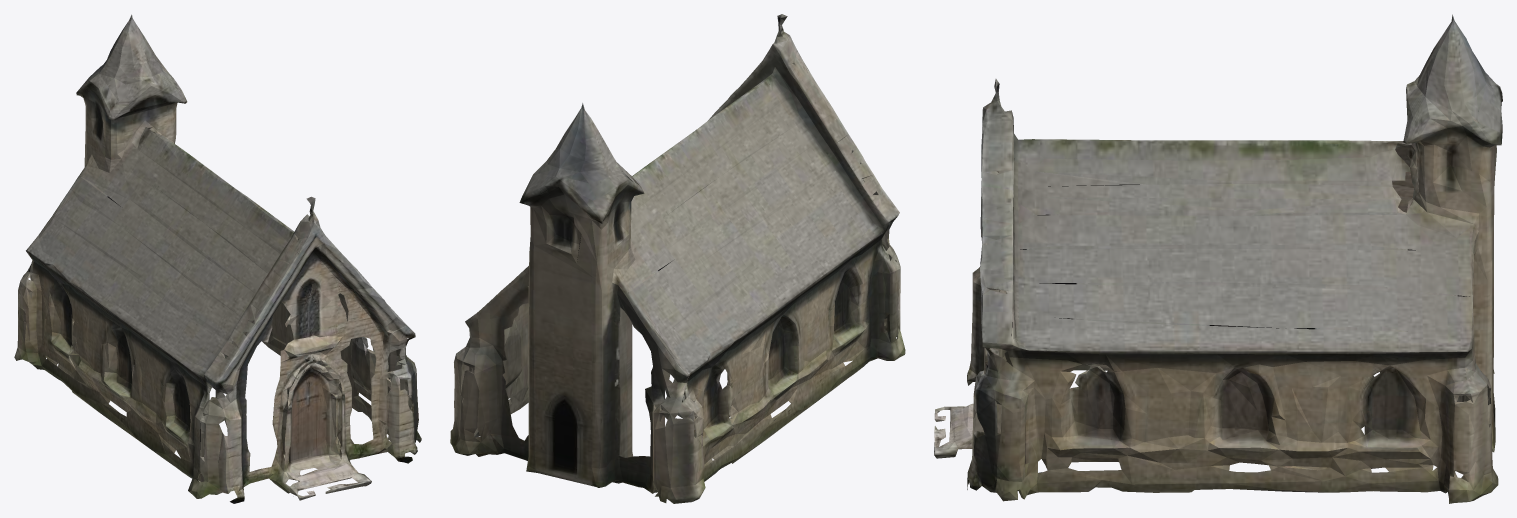
File: chapel_stone_small_lod0.glb
3 renders of one model, left to right at view 1: azimuth 30°, elevation 25°; view 2: azimuth 150°, elevation 25°; view 3: azimuth 270°, elevation 25°, orthographic. The views are drawn at different scales.
Parts seen in each view (by area): view 1: chapel_stone_small_lod0; view 2: chapel_stone_small_lod0; view 3: chapel_stone_small_lod0.
Boxes of the visible parts, box(x1,y1,x2,y2) form: chapel_stone_small_lod0: box(14, 14, 421, 503); chapel_stone_small_lod0: box(450, 14, 905, 503); chapel_stone_small_lod0: box(934, 14, 1502, 503).
Size of the model in its own units: 4.07 by 5.72 by 6.98.
1 material, 1 textured.
